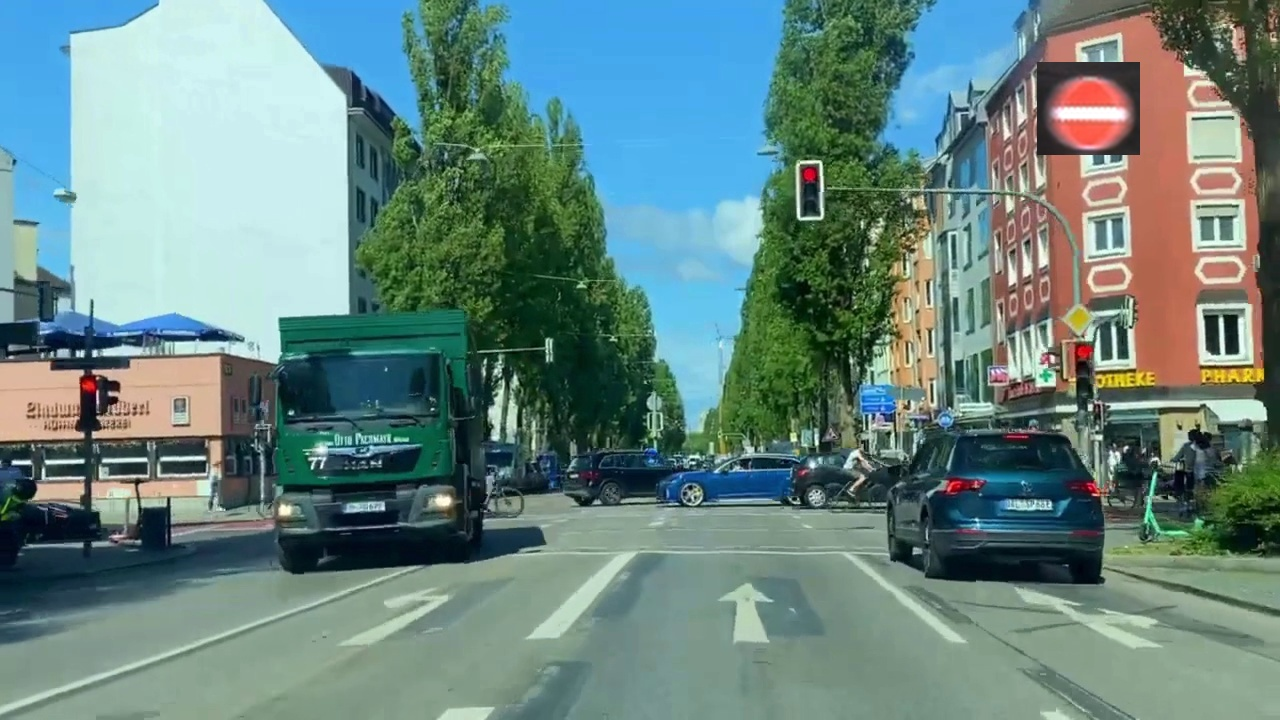No entry: (1037, 62, 1140, 155)
